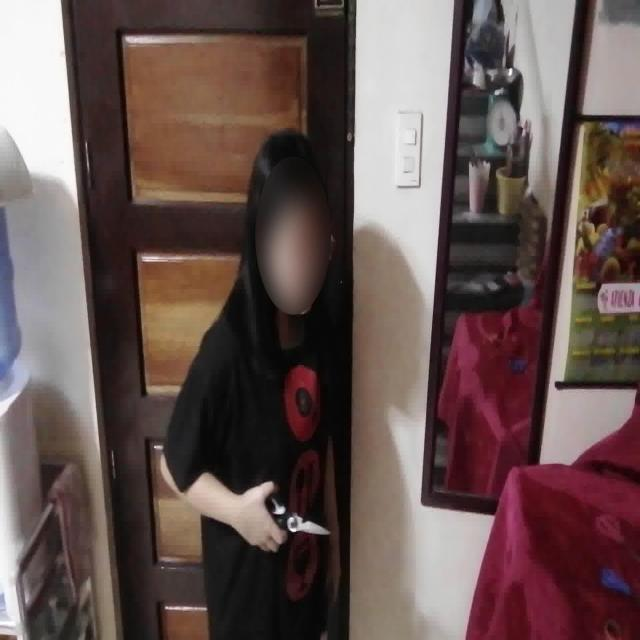scissor: (266, 495, 332, 537)
